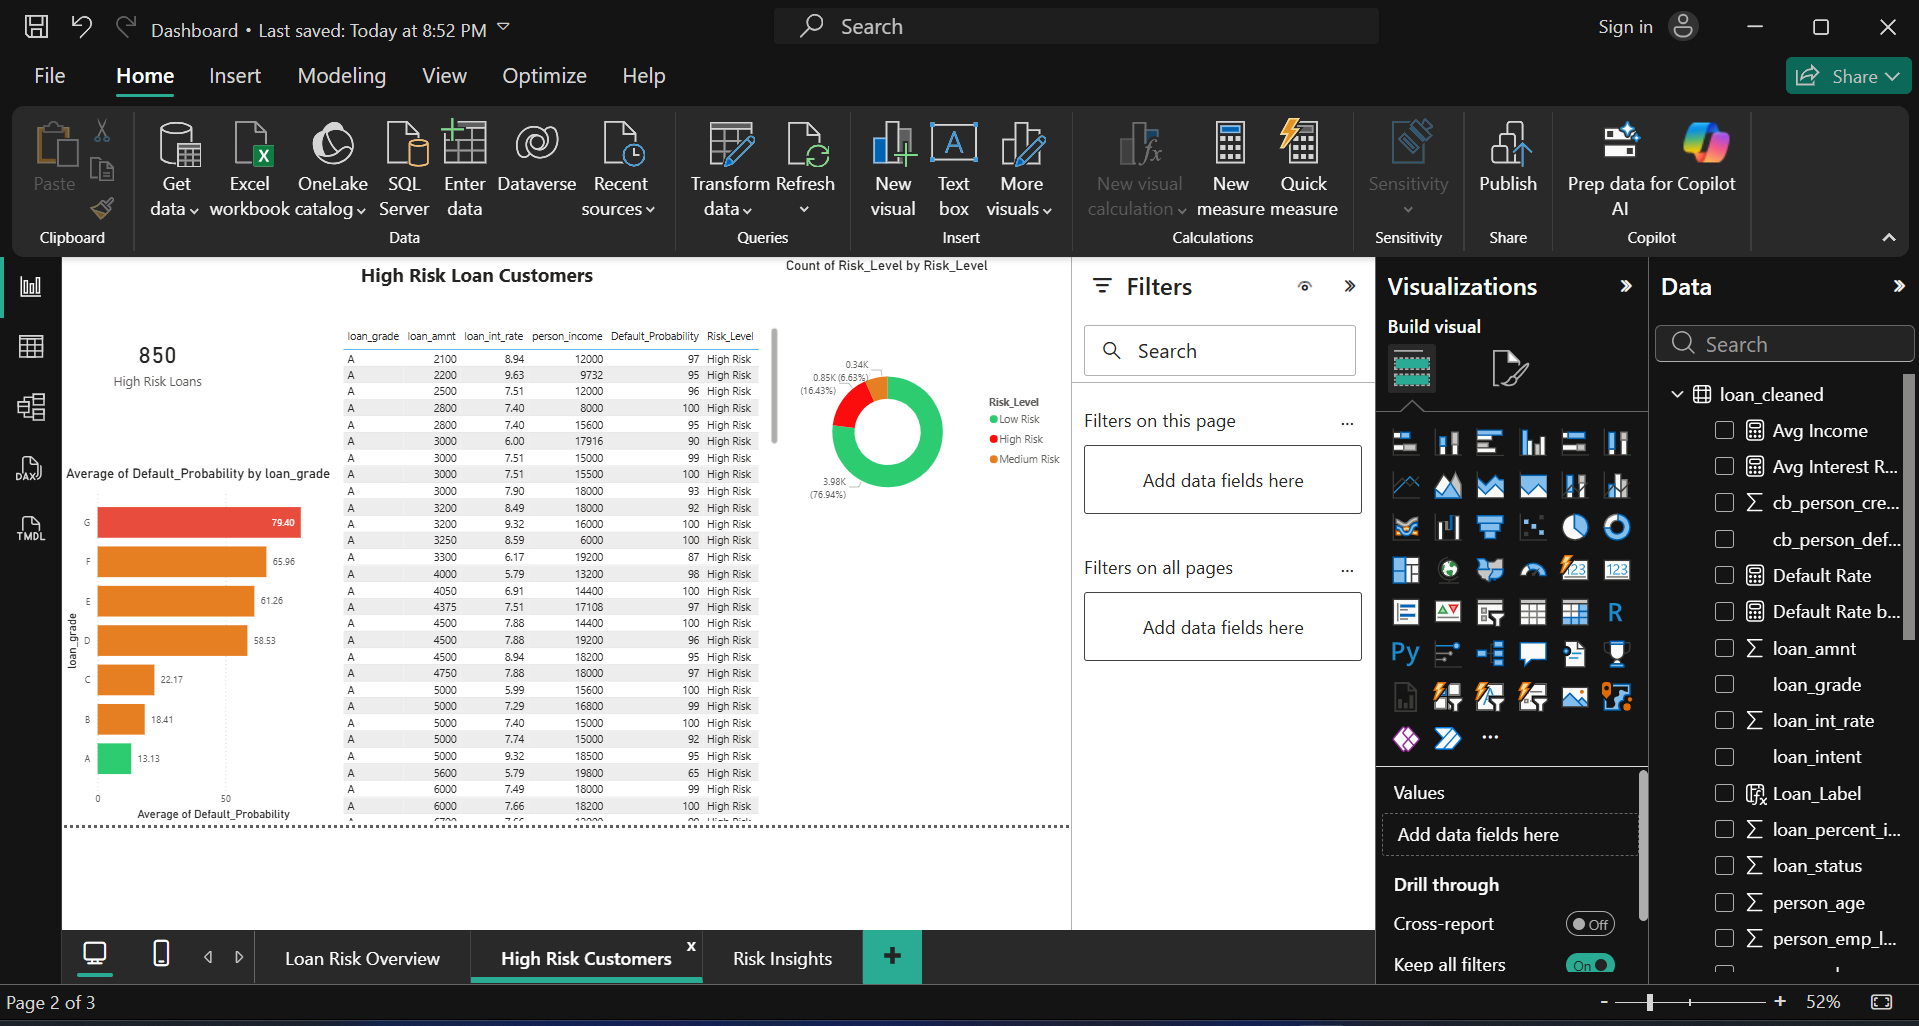

Layout of this report page (visuals, bound fields, positions):
{"tool":"powerbi","page":{"name":" High Risk Customers","canvas":[1280,720],"ordinal":1},"visuals":[{"type":"card","fields":{"Values":["loan_predictions.High Risk Loans"]},"box":[9.6,0,222.5,264.7],"z":0},{"type":"donutChart","fields":{"Category":["loan_predictions.Risk_Level"],"Y":["CountNonNull(loan_predictions.Risk_Level)"]},"box":[912.9,0,366.3,423.8],"z":1},{"type":"barChart","fields":{"Y":["Avg(loan_predictions.Default_Probability)"],"Category":["loan_predictions.loan_grade"]},"box":[0,264.7,351,454.5],"z":2},{"type":"tableEx","fields":{"Values":["loan_predictions.loan_grade","loan_predictions.loan_amnt","loan_predictions.loan_int_rate","loan_predictions.person_income","loan_predictions.Default_Probability","loan_predictions.Risk_Level"]},"box":[351,84.4,561.9,634.8],"z":3},{"type":"textbox","box":[350,0,350,43.3],"z":5}]}

Visuals, with their boxes on the page's 1280x720 design canvas (x1, y1, x2, y2). These are canvas units, not pixel positions in the 1919x1026 screenshot, which may show the page scaled, cropped or inside an application window:
card - loan_predictions.High Risk Loans: [10,0,232,265]
donutChart - loan_predictions.Risk_Level x CountNonNull(loan_predictions.Risk_Level): [913,0,1279,424]
barChart - Avg(loan_predictions.Default_Probability) x loan_predictions.loan_grade: [0,265,351,719]
tableEx - loan_predictions.loan_grade x loan_predictions.loan_amnt: [351,84,913,719]
textbox: [350,0,700,43]
